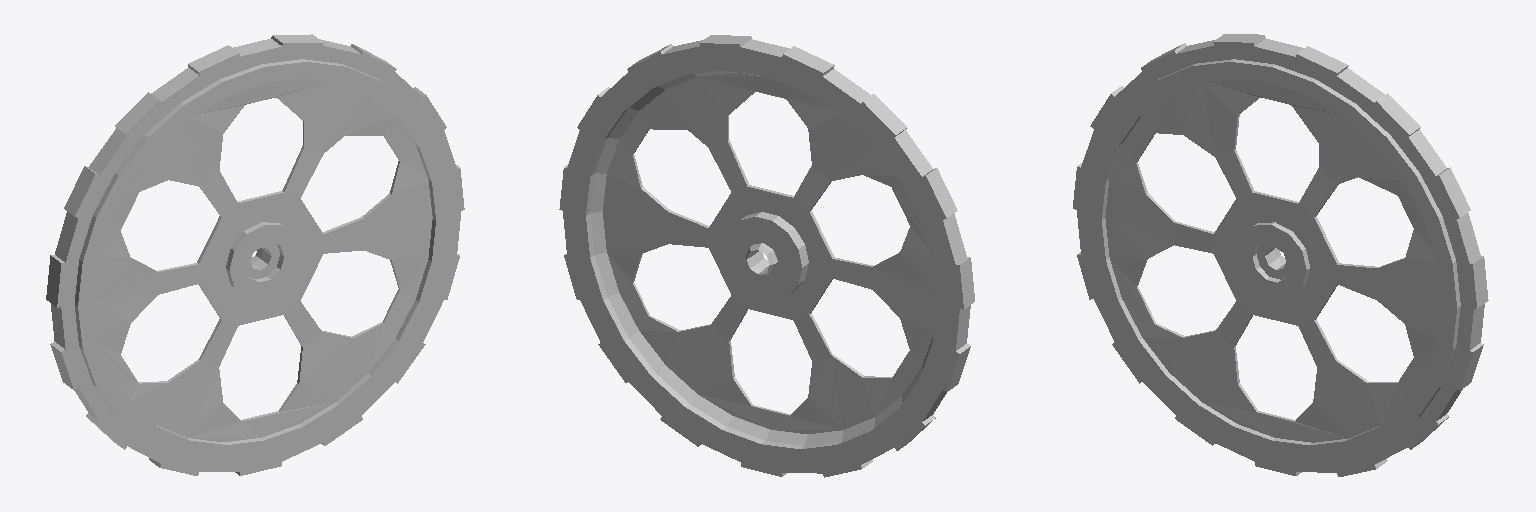
Rendered from skinnyridgewheel.obj.
3 renders of one model, left to right at view 1: azimuth 30°, elevation 25°; view 2: azimuth 150°, elevation 25°; view 3: azimuth 330°, elevation 25°, orthographic.
Visible parts, largest first — view 1: EGR101_wheel.002; view 2: EGR101_wheel.002; view 3: EGR101_wheel.002.
Boxes of the visible parts, box(x1,y1,x2,y2) form: EGR101_wheel.002: box(46, 34, 464, 475); EGR101_wheel.002: box(559, 35, 974, 477); EGR101_wheel.002: box(1073, 34, 1488, 476).
Size of the model in its own units: 66.5 by 66.2 by 5.25.